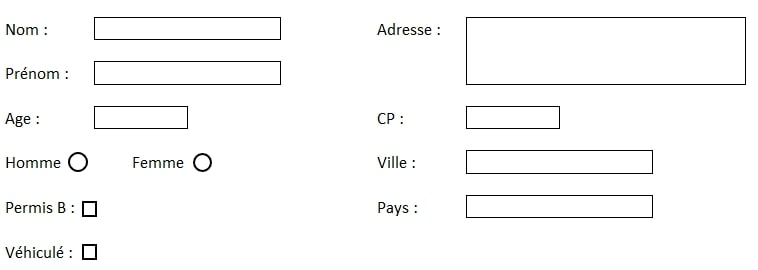input: (458, 12, 749, 89), (82, 8, 290, 51), (456, 186, 659, 225), (85, 56, 294, 90), (458, 147, 663, 179), (85, 99, 196, 136), (458, 99, 566, 134)
text: (3, 195, 78, 225), (2, 60, 73, 90), (3, 237, 76, 266), (370, 19, 451, 43), (368, 147, 432, 177), (366, 192, 428, 219), (2, 16, 55, 47), (4, 153, 64, 177), (3, 108, 48, 134), (370, 104, 408, 130)
